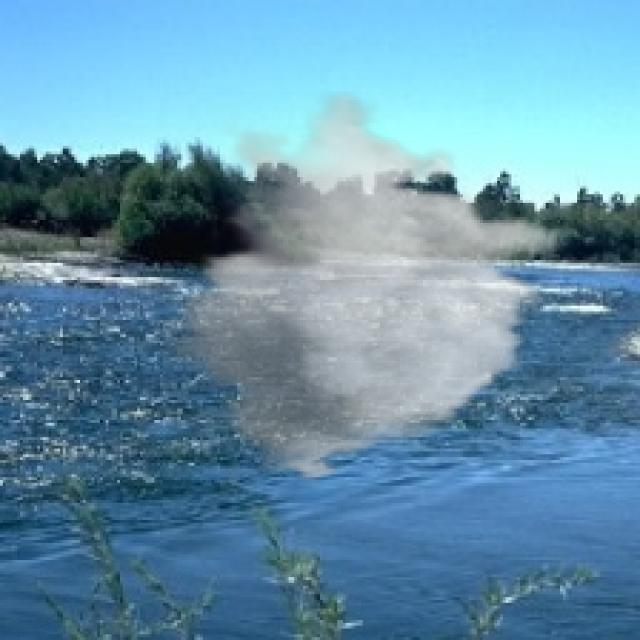smoke: (157, 91, 572, 486)
